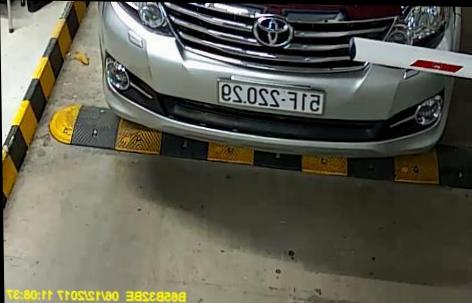License_Plate: (206, 78, 336, 116)
